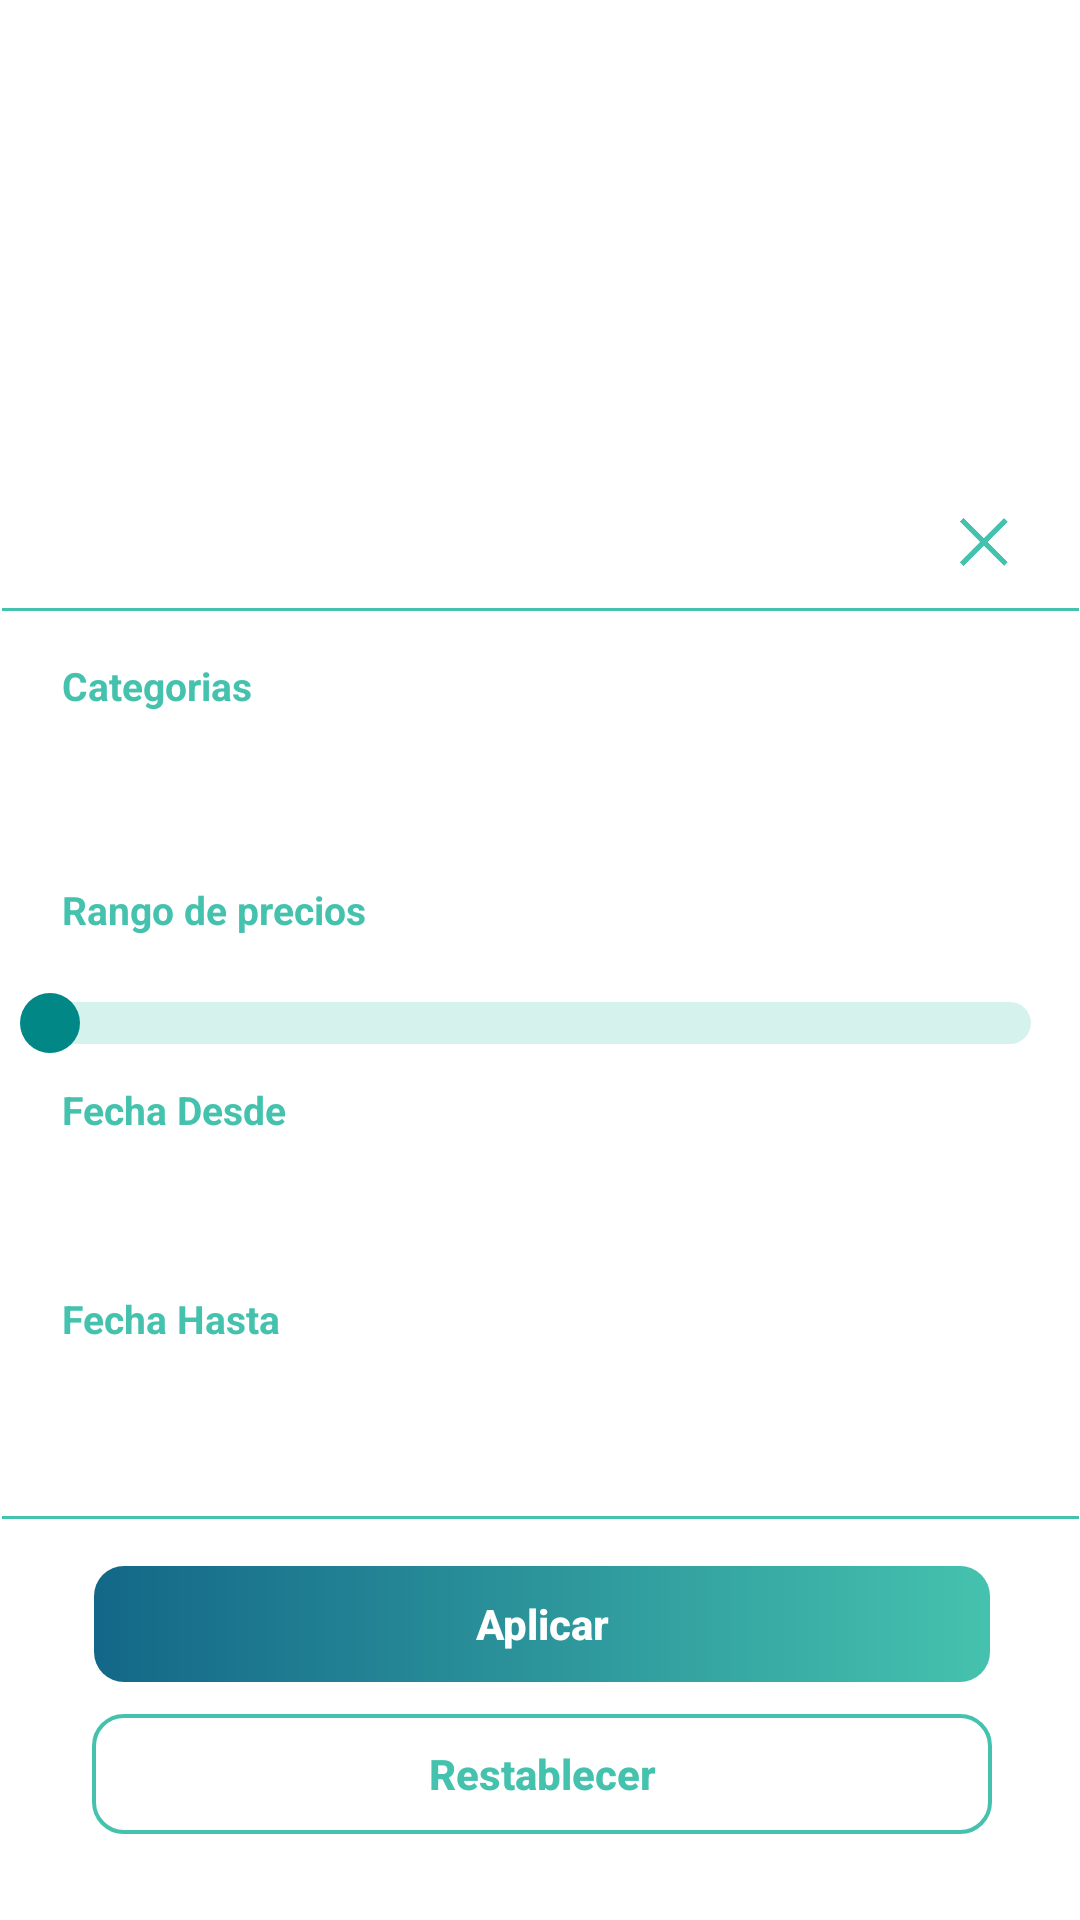

Icons on this 1080 x 1920 Android screen, each with the point to tap as point (x, y):
close popup: point (984, 542)
